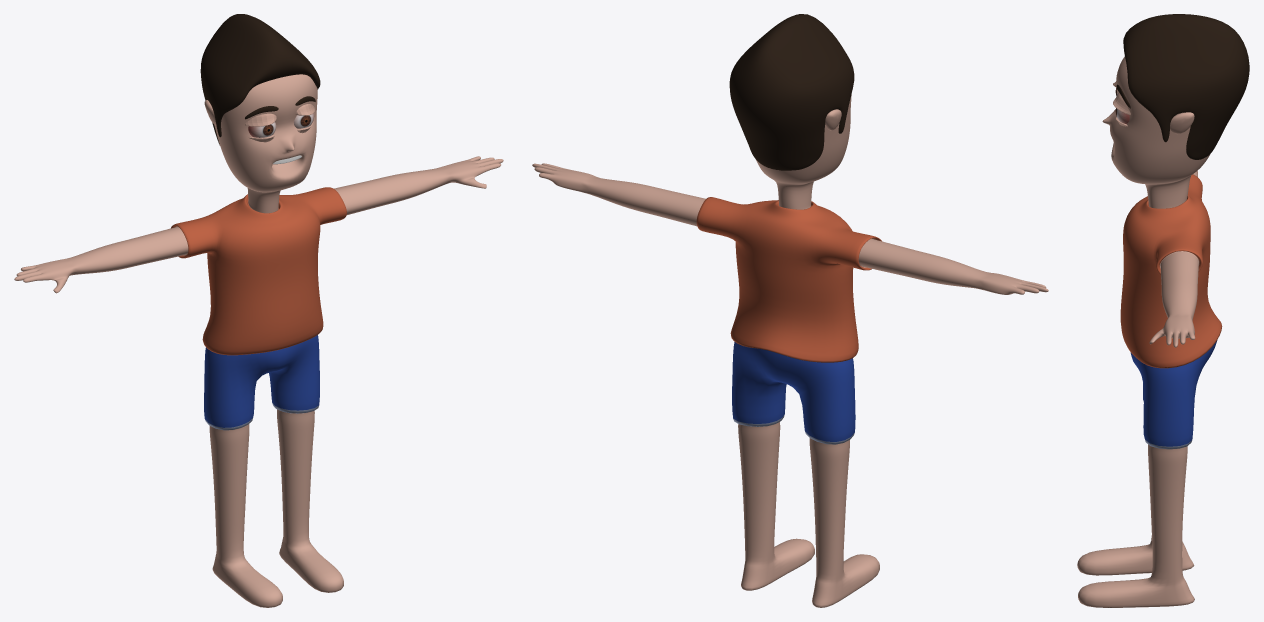
Rendered from Low Poly Stylized Character.fbx.
3 renders of one model, left to right at view 1: azimuth 30°, elevation 25°; view 2: azimuth 150°, elevation 25°; view 3: azimuth 270°, elevation 25°, orthographic. The views are drawn at different scales.
Parts seen in each view (by area): view 1: Character Body; view 2: Character Body; view 3: Character Body, Ear.
Part boxes in pixels (bbox=[...]): Character Body: bbox=[14, 14, 503, 607]; Character Body: bbox=[532, 14, 1048, 607]; Character Body: bbox=[1077, 14, 1249, 607]; Ear: bbox=[1170, 112, 1194, 134].
Size of the model in its own units: 175 by 186 by 50.98.
